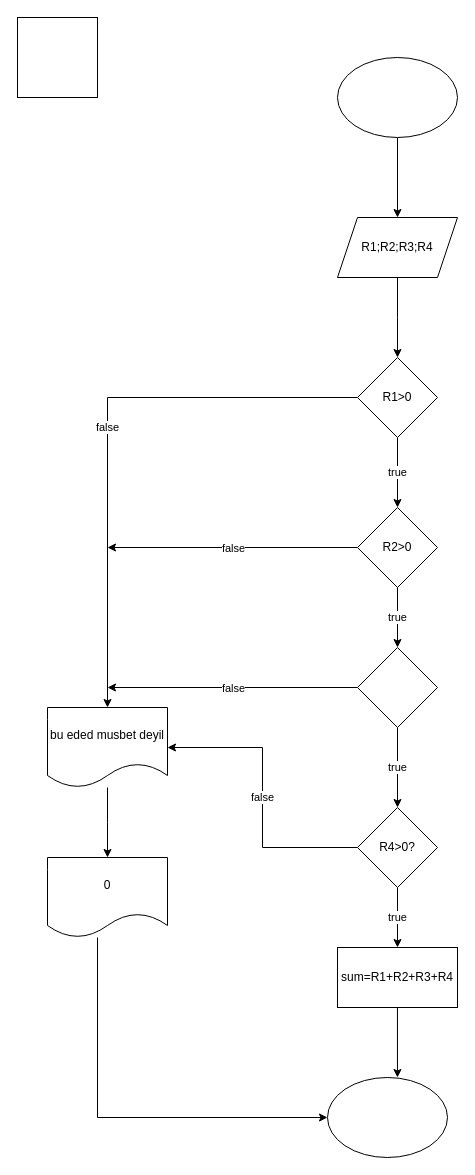
This 475x1175 diagram has some shape labels left out. The shapes that lost their labels are listed below. From the top down, each one's centre as x and y in pixels, then its label:
pixel 57 57: verilmis 4 ededden musbet olanlarin cemini tapin
pixel 397 97: Start
pixel 397 687: R3>0?
pixel 387 1117: end
